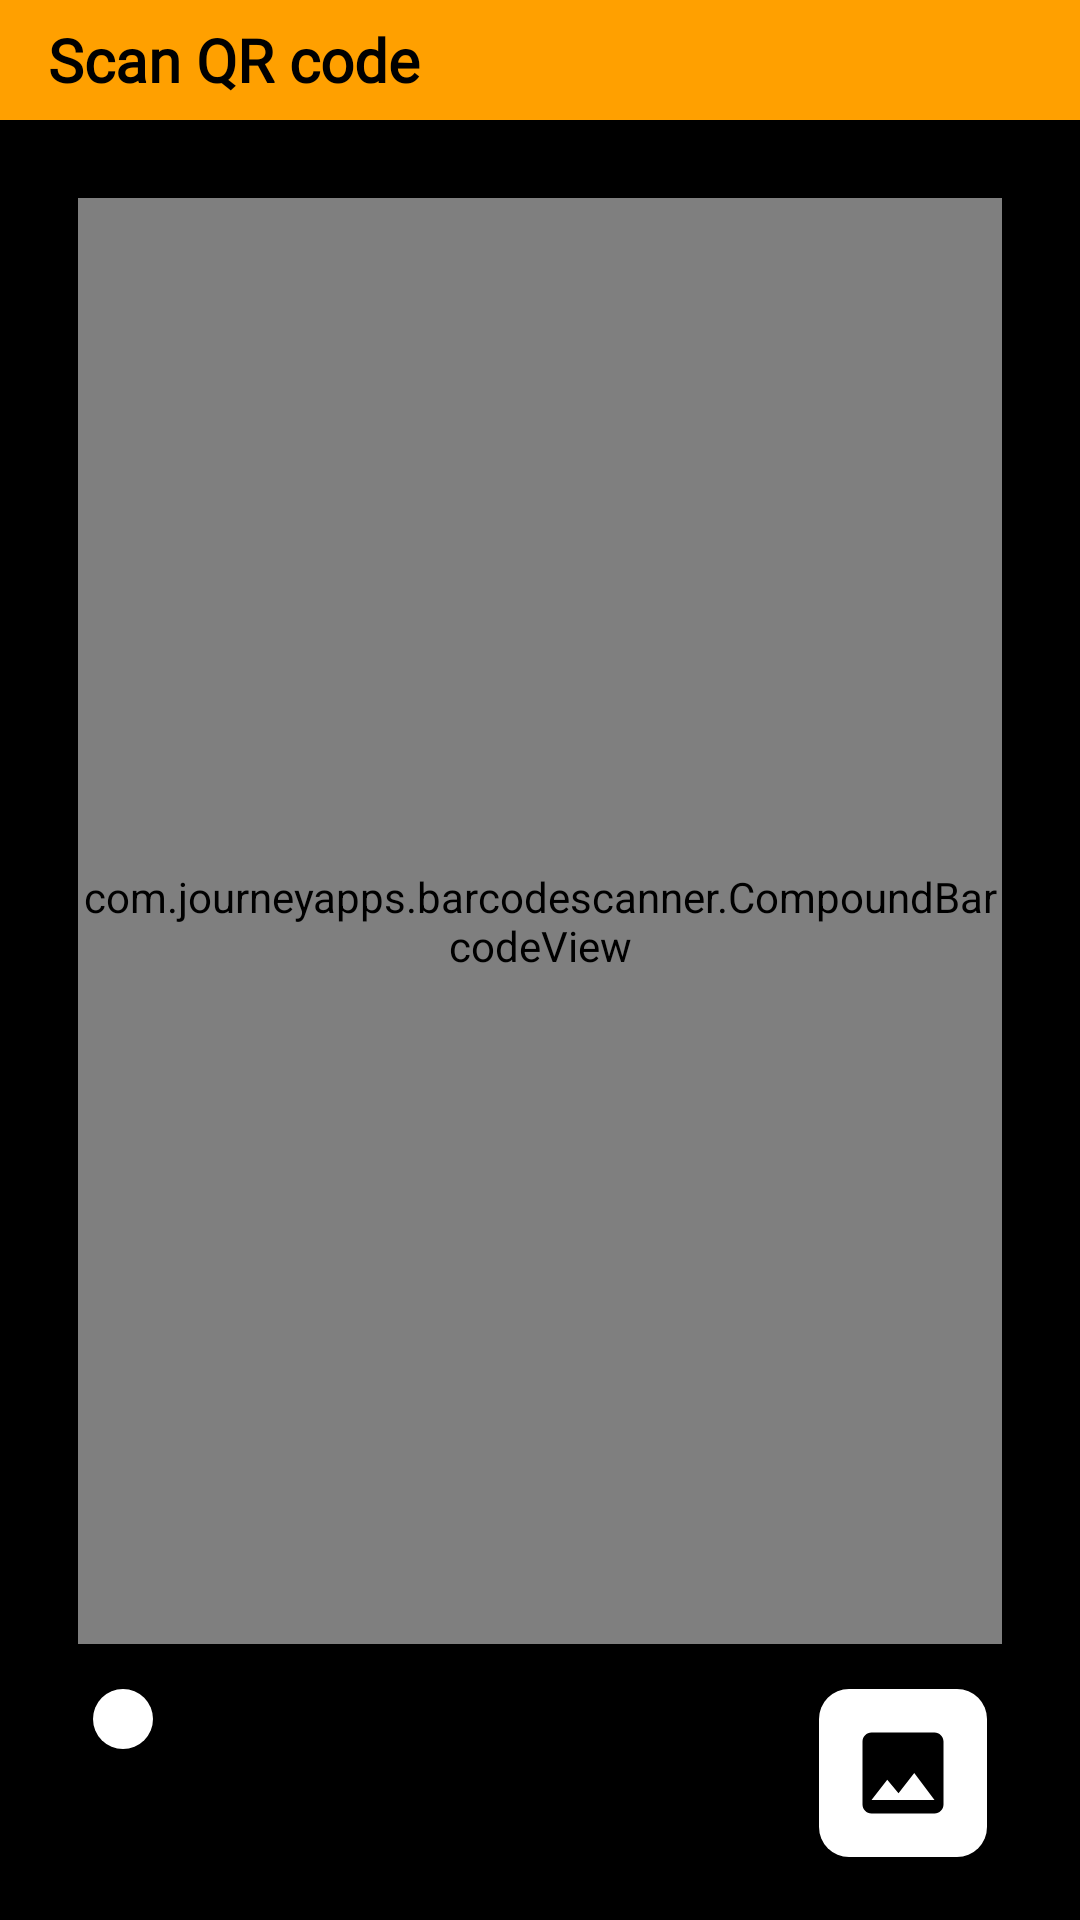

Point at icon controls on the screen. Image size 1080w x 1920h, points as (x=x, y=y).
Open Gallery: (x=903, y=1773)
